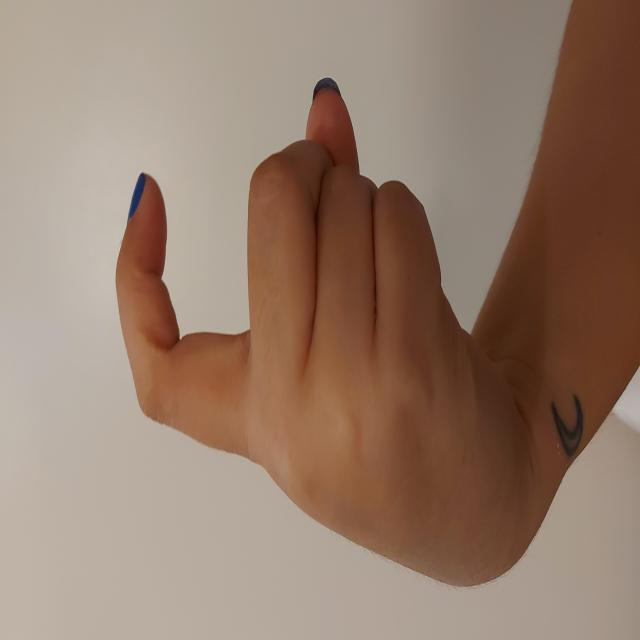X: (57, 114, 564, 531)
